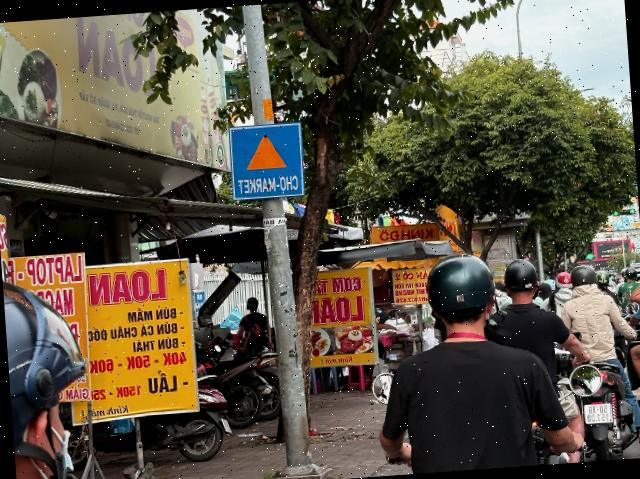khu-vuc-cho-phia-truoc: (227, 120, 306, 200)
